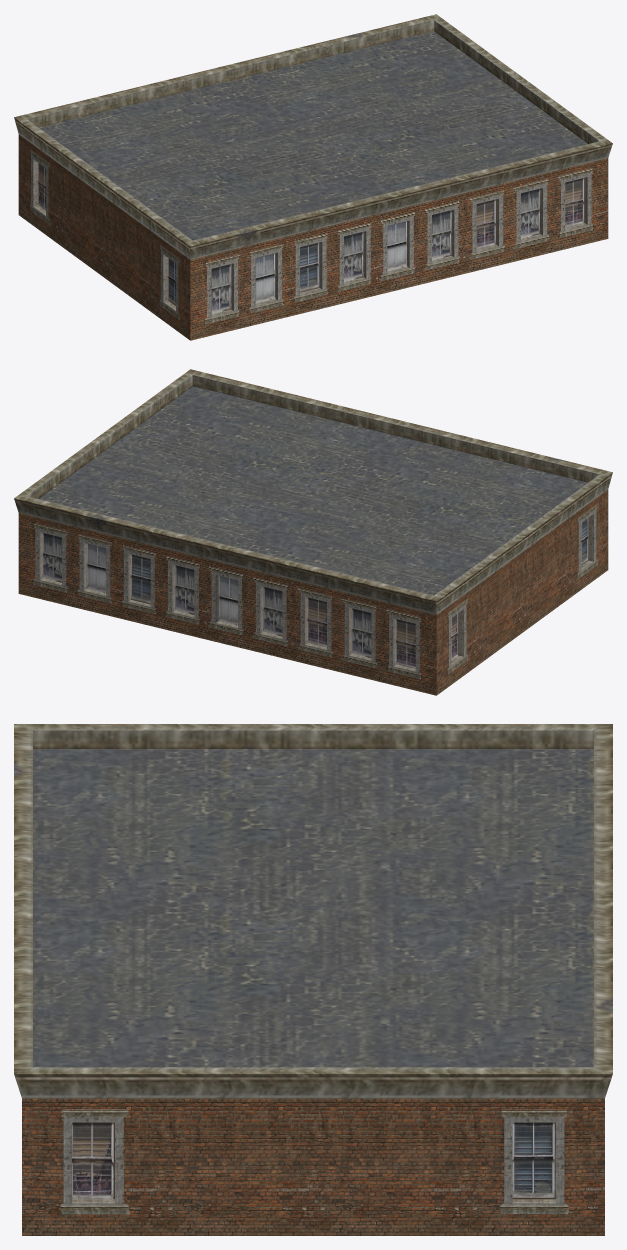
Rendered from Build5_el6_LOD1.fbx.
3 renders of one model, top to bottom at view 1: azimuth 30°, elevation 25°; view 2: azimuth 150°, elevation 25°; view 3: azimuth 270°, elevation 25°, orthographic. The views are drawn at different scales.
Visible parts, largest first — view 1: polySurface87; view 2: polySurface87; view 3: polySurface87.
Part boxes in pixels (left/top/right/bottom): polySurface87: left=14, top=14, right=612, bottom=340; polySurface87: left=14, top=369, right=612, bottom=695; polySurface87: left=14, top=724, right=612, bottom=1235.
Size of the model in its own units: 16.4 by 3.58 by 11.87.
